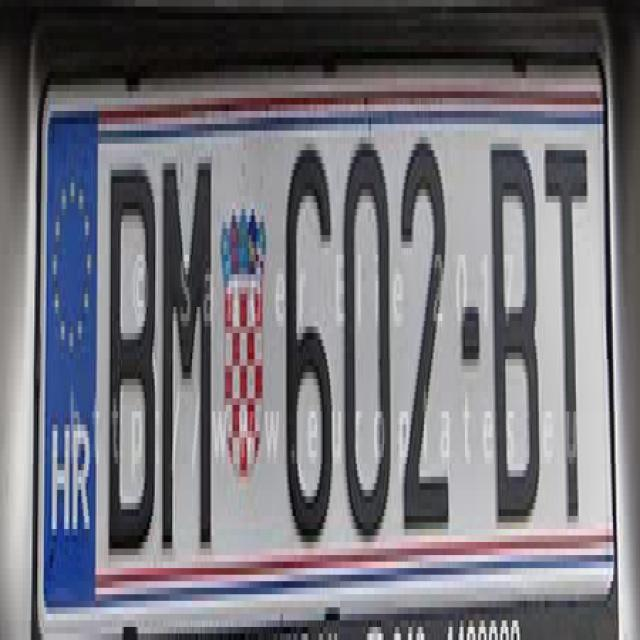Croatie: (35, 78, 101, 617)
EU: (32, 73, 611, 609)
